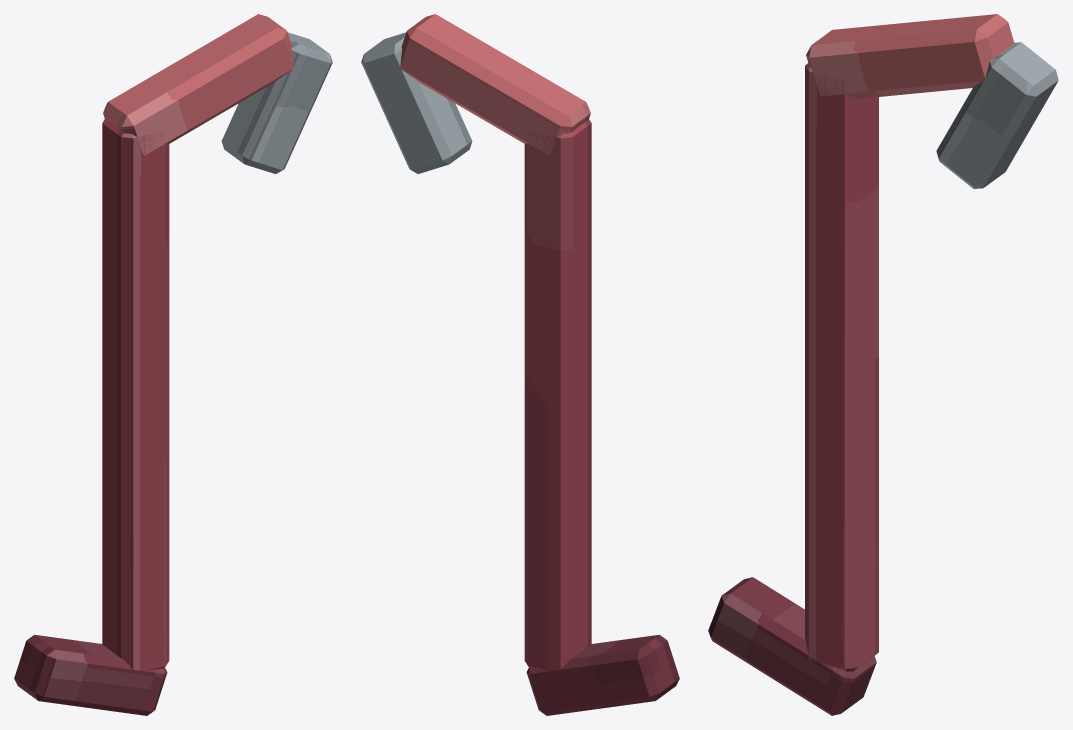
Rendered from crowbar.glb.
The picture shows the model from 3 angles, left to right: view 1: azimuth 30°, elevation 25°; view 2: azimuth 150°, elevation 25°; view 3: azimuth 330°, elevation 25°; orthographic projection. The views are drawn at different scales.
Parts seen in each view (by area): view 1: CrowbarShaft, CrowbarHook, CrowbarFoot, CrowbarClaw; view 2: CrowbarShaft, CrowbarHook, CrowbarFoot, CrowbarClaw; view 3: CrowbarShaft, CrowbarHook, CrowbarFoot, CrowbarClaw.
Part boxes in pixels (x1=…): CrowbarShaft: x1=102, y1=119, x2=169, y2=671; CrowbarHook: x1=103, y1=14, x2=293, y2=155; CrowbarFoot: x1=14, y1=634, x2=167, y2=715; CrowbarClaw: x1=221, y1=32, x2=332, y2=173; CrowbarShaft: x1=524, y1=119, x2=591, y2=672; CrowbarHook: x1=400, y1=14, x2=590, y2=155; CrowbarFoot: x1=526, y1=634, x2=679, y2=715; CrowbarClaw: x1=361, y1=32, x2=472, y2=173; CrowbarShaft: x1=805, y1=63, x2=878, y2=671; CrowbarHook: x1=806, y1=14, x2=1014, y2=98; CrowbarFoot: x1=708, y1=577, x2=876, y2=715; CrowbarClaw: x1=936, y1=42, x2=1058, y2=188.
Bounding box in the file's own units: 0.464 × 0.9747 × 0.075.
Materials: 1 (1 with a texture image).
